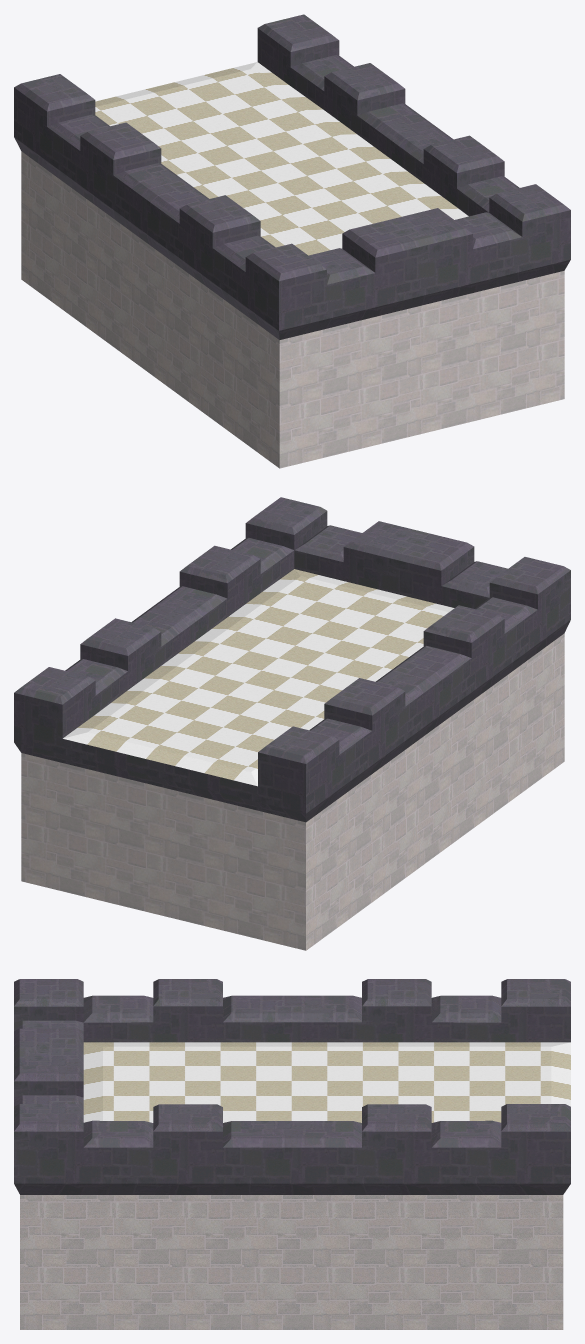
File: DarkCastleStepA.fbx
3 renders of one model, top to bottom at view 1: azimuth 30°, elevation 25°; view 2: azimuth 150°, elevation 25°; view 3: azimuth 270°, elevation 25°, orthographic. The views are drawn at different scales.
Visible parts, largest first — view 1: Plane.002, Plane.000, Plane.001; view 2: Plane.002, Plane.000, Plane.001; view 3: Plane.000, Plane.002, Plane.001.
Part boxes in pixels (left/top/right/bottom): Plane.002: left=21, top=151, right=564, bottom=468; Plane.000: left=14, top=14, right=570, bottom=339; Plane.001: left=95, top=62, right=468, bottom=255; Plane.002: left=21, top=633, right=564, bottom=950; Plane.000: left=14, top=497, right=570, bottom=822; Plane.001: left=63, top=569, right=454, bottom=786; Plane.000: left=14, top=979, right=570, bottom=1194; Plane.002: left=20, top=1195, right=563, bottom=1329; Plane.001: left=83, top=1042, right=570, bottom=1122.
Size of the model in its own units: 95471 by 60942 by 150000.
3 materials, 3 textured.
